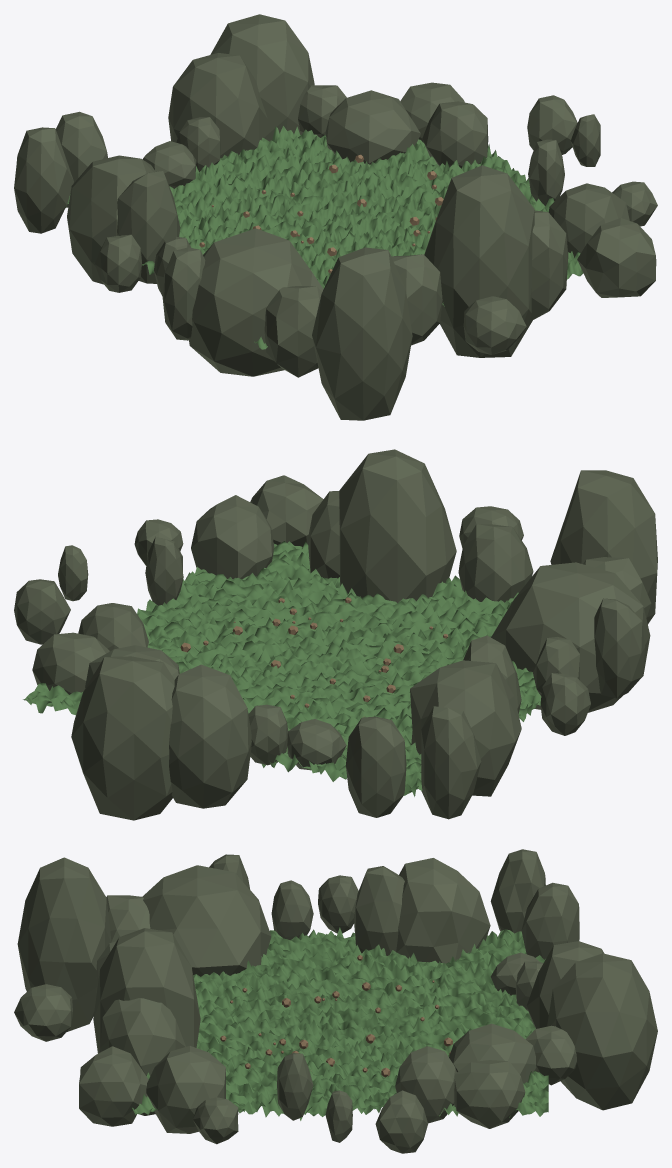
Rendered from minecraft_props.gltf.
3 renders of one model, top to bottom at view 1: azimuth 30°, elevation 25°; view 2: azimuth 150°, elevation 25°; view 3: azimuth 270°, elevation 25°, orthographic. The views are drawn at different scales.
Size of the model in its own units: 324 by 112 by 370.
